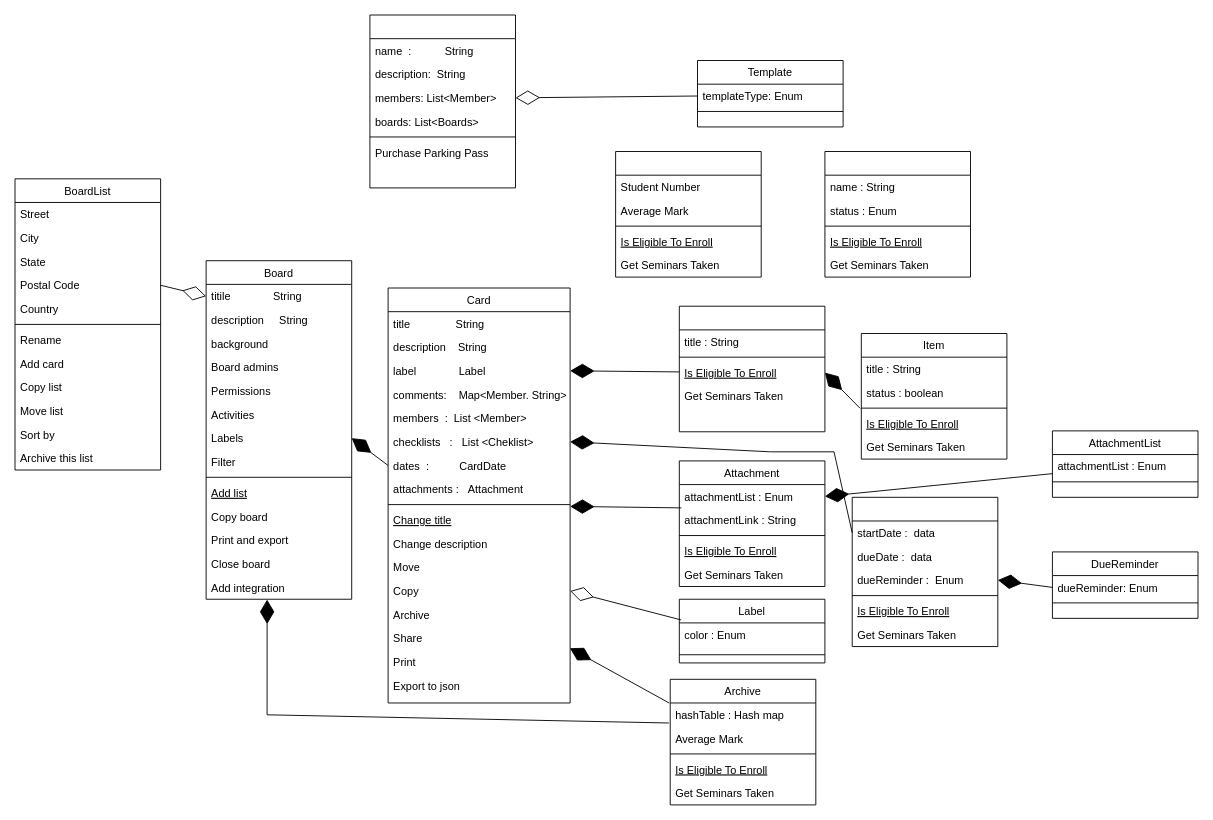
Image size: 1213x820. Some labels were removed from this diagram. The box of each missing label's shape, as (x1, y1, x2, y2) in pixels:
CardDate: (851, 496, 998, 647)
Cheklist: (678, 305, 825, 432)
Group: (615, 151, 761, 277)
Member: (824, 151, 971, 277)
Workspace: (369, 14, 516, 188)
